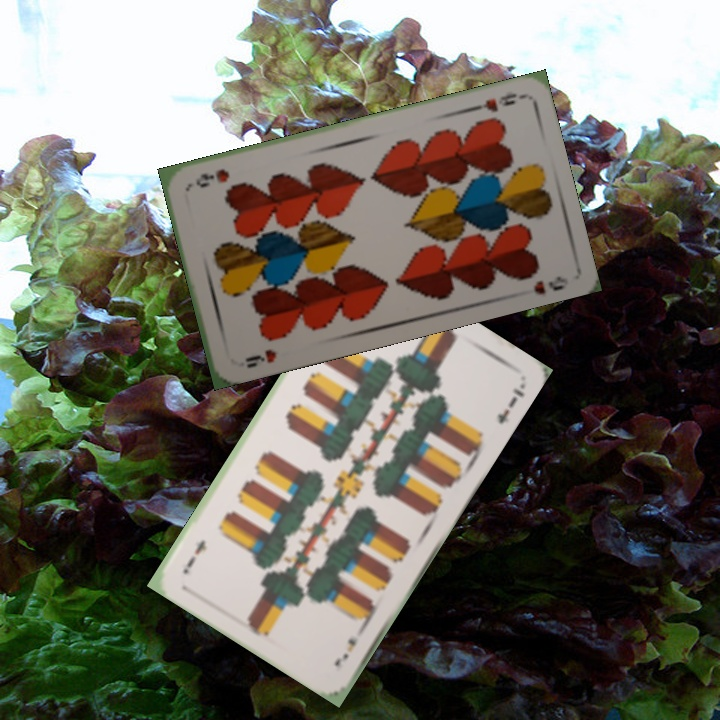E7: (330, 621, 368, 669)
H9: (467, 88, 526, 115), (241, 345, 279, 371)
